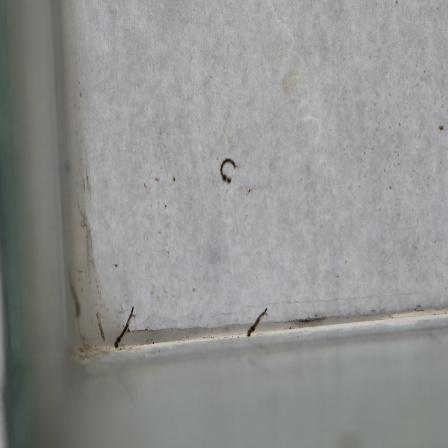Jentik-Nyamuk: (111, 303, 138, 352), (243, 305, 270, 339), (215, 154, 239, 187)
